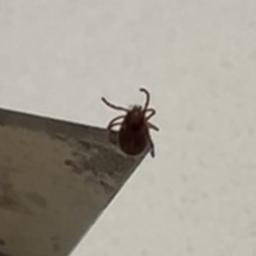Rhipicephalus sanguineus: (102, 88, 159, 158)
